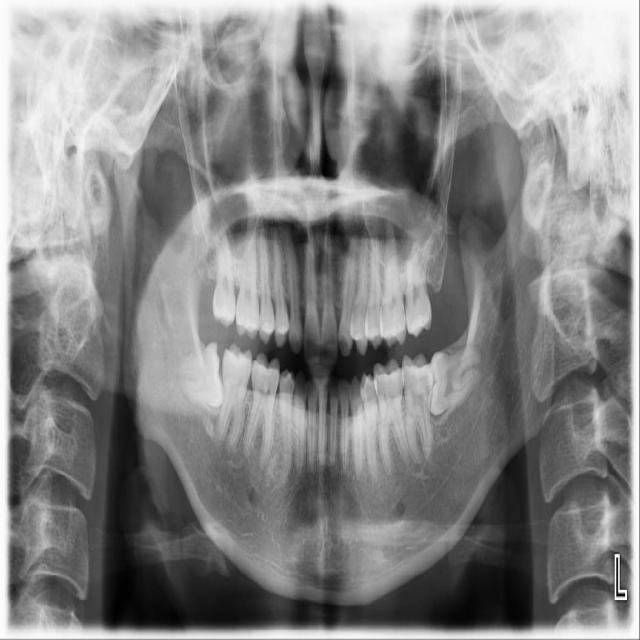73: (582, 536, 594, 566)
BioHorizons Implant: (401, 221, 433, 339)
Biomet 3i Implant: (426, 344, 483, 417)
Blue Sky Bio Implant: (400, 351, 438, 461)
Caries: (212, 223, 236, 329)
Implant: (212, 341, 255, 448)
Keystone Dental Implant: (175, 340, 227, 412)
